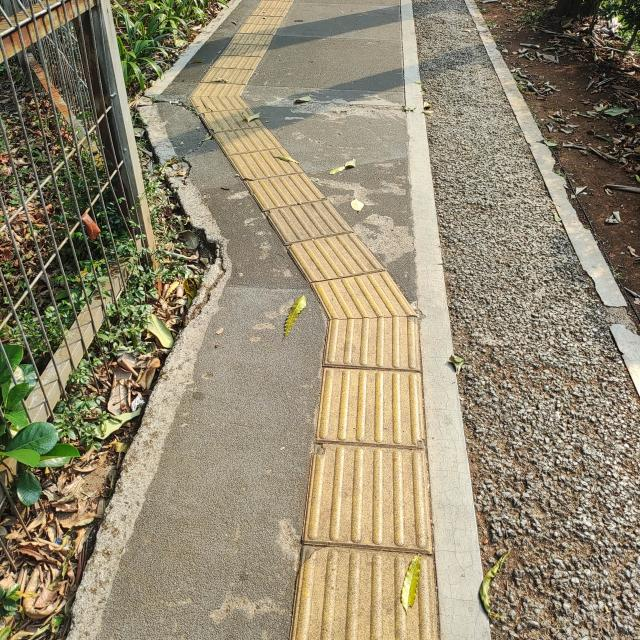lurus: (304, 323, 431, 640), (197, 96, 387, 294)
